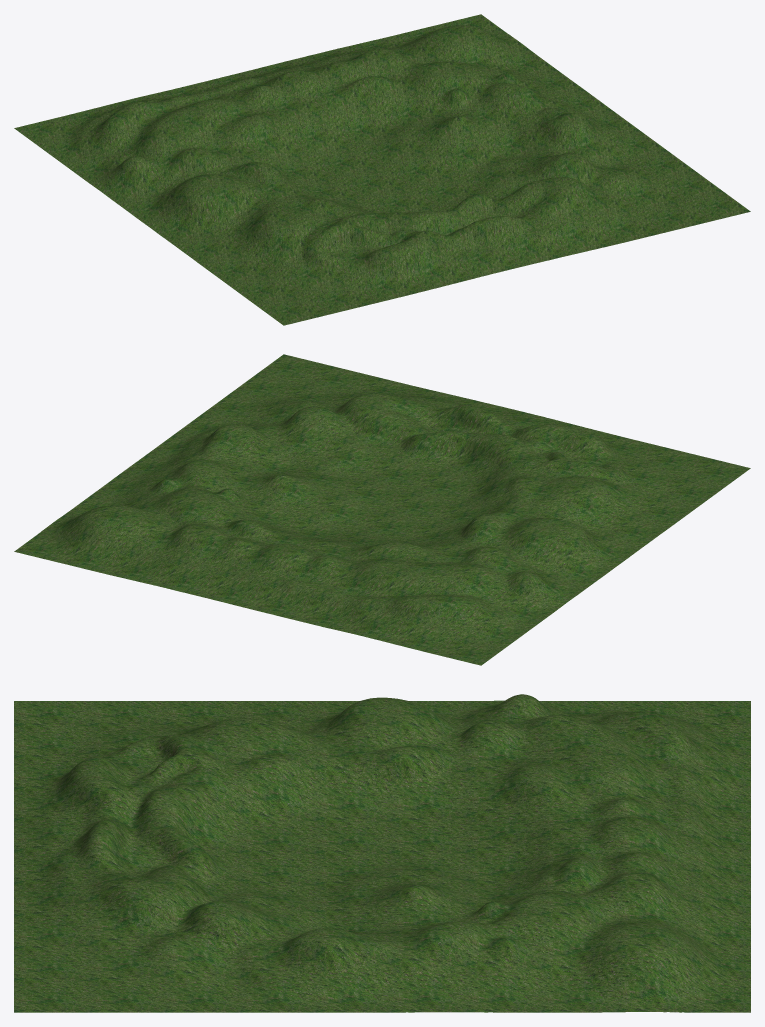
The model's file is islands.glb.
The picture shows the model from 3 angles, top to bottom: view 1: azimuth 30°, elevation 25°; view 2: azimuth 150°, elevation 25°; view 3: azimuth 270°, elevation 25°; orthographic projection. The views are drawn at different scales.
Parts seen in each view (by area): view 1: ColladaWvisualWsceneWgroup_Object19-node_0, ColladaWvisualWsceneWgroup_Object15-node_0, ColladaWvisualWsceneWgroup_Object20-node_0, ColladaWvisualWsceneWgroup_Object11-node_0, ColladaWvisualWsceneWgroup_Object04-node_0, ColladaWvisualWsceneWgroup_Object08-node_0, ColladaWvisualWsceneWgroup_Object02-node_0, ColladaWvisualWsceneWgroup_Object16-node_0, ColladaWvisualWsceneWgroup_Object13-node_0, ColladaWvisualWsceneWgroup_Object09-node_0, ColladaWvisualWsceneWgroup_Object07-node_0, ColladaWvisualWsceneWgroup_Object03-node_0 (+13 smaller); view 2: ColladaWvisualWsceneWgroup_Object10-node_0, ColladaWvisualWsceneWgroup_Object14-node_0, ColladaWvisualWsceneWgroup_Object21-node_0, ColladaWvisualWsceneWgroup_Object18-node_0, ColladaWvisualWsceneWgroup_Object17-node_0, ColladaWvisualWsceneWgroup_Object22-node_0, ColladaWvisualWsceneWgroup_Object05-node_0, ColladaWvisualWsceneWgroup_Object07-node_0, ColladaWvisualWsceneWgroup_Object16-node_0, ColladaWvisualWsceneWgroup_Object19-node_0, ColladaWvisualWsceneWgroup_Object20-node_0, ColladaWvisualWsceneWgroup_Object08-node_0 (+13 smaller); view 3: ColladaWvisualWsceneWgroup_Object23-node_0, ColladaWvisualWsceneWgroup_Object12-node_0, ColladaWvisualWsceneWgroup_Object25-node_0, ColladaWvisualWsceneWgroup_Object24-node_0, ColladaWvisualWsceneWgroup_Object22-node_0, ColladaWvisualWsceneWgroup_Object11-node_0, ColladaWvisualWsceneWgroup_Object17-node_0, ColladaWvisualWsceneWgroup_Object15-node_0, ColladaWvisualWsceneWgroup_Object13-node_0, ColladaWvisualWsceneWgroup_Object10-node_0, ColladaWvisualWsceneWgroup_Object18-node_0, ColladaWvisualWsceneWgroup_Object14-node_0 (+13 smaller).
Boxes of the visible parts, <box> form: ColladaWvisualWsceneWgroup_Object19-node_0: <box>343,61,495,138</box>; ColladaWvisualWsceneWgroup_Object15-node_0: <box>245,86,398,165</box>; ColladaWvisualWsceneWgroup_Object20-node_0: <box>399,103,551,184</box>; ColladaWvisualWsceneWgroup_Object11-node_0: <box>148,106,300,174</box>; ColladaWvisualWsceneWgroup_Object04-node_0: <box>317,231,458,306</box>; ColladaWvisualWsceneWgroup_Object08-node_0: <box>126,174,259,251</box>; ColladaWvisualWsceneWgroup_Object02-node_0: <box>515,186,653,258</box>; ColladaWvisualWsceneWgroup_Object16-node_0: <box>302,139,454,206</box>; ColladaWvisualWsceneWgroup_Object13-node_0: <box>261,199,413,266</box>; ColladaWvisualWsceneWgroup_Object09-node_0: <box>183,215,316,292</box>; ColladaWvisualWsceneWgroup_Object07-node_0: <box>70,129,200,210</box>; ColladaWvisualWsceneWgroup_Object03-node_0: <box>415,216,555,282</box>; ColladaWvisualWsceneWgroup_Object10-node_0: <box>306,561,459,646</box>; ColladaWvisualWsceneWgroup_Object14-node_0: <box>209,541,361,622</box>; ColladaWvisualWsceneWgroup_Object21-node_0: <box>280,394,432,475</box>; ColladaWvisualWsceneWgroup_Object18-node_0: <box>111,518,264,598</box>; ColladaWvisualWsceneWgroup_Object17-node_0: <box>377,427,530,497</box>; ColladaWvisualWsceneWgroup_Object22-node_0: <box>14,505,166,575</box>; ColladaWvisualWsceneWgroup_Object05-node_0: <box>403,585,536,665</box>; ColladaWvisualWsceneWgroup_Object07-node_0: <box>459,548,592,624</box>; ColladaWvisualWsceneWgroup_Object16-node_0: <box>321,476,474,538</box>; ColladaWvisualWsceneWgroup_Object19-node_0: <box>167,476,320,541</box>; ColladaWvisualWsceneWgroup_Object20-node_0: <box>224,443,376,511</box>; ColladaWvisualWsceneWgroup_Object08-node_0: <box>516,505,649,583</box>; ColladaWvisualWsceneWgroup_Object23-node_0: <box>444,913,597,1012</box>; ColladaWvisualWsceneWgroup_Object12-node_0: <box>290,718,443,817</box>; ColladaWvisualWsceneWgroup_Object25-node_0: <box>137,914,290,1012</box>; ColladaWvisualWsceneWgroup_Object24-node_0: <box>290,923,443,1012</box>; ColladaWvisualWsceneWgroup_Object22-node_0: <box>597,922,750,1012</box>; ColladaWvisualWsceneWgroup_Object11-node_0: <box>444,718,597,815</box>; ColladaWvisualWsceneWgroup_Object17-node_0: <box>137,787,290,882</box>; ColladaWvisualWsceneWgroup_Object15-node_0: <box>444,785,597,881</box>; ColladaWvisualWsceneWgroup_Object13-node_0: <box>137,721,290,814</box>; ColladaWvisualWsceneWgroup_Object10-node_0: <box>597,722,750,817</box>; ColladaWvisualWsceneWgroup_Object18-node_0: <box>597,852,750,947</box>; ColladaWvisualWsceneWgroup_Object14-node_0: <box>597,790,750,881</box>.
Size of the model in its own units: 1968 by 103 by 1969.
1 material, 1 textured.
